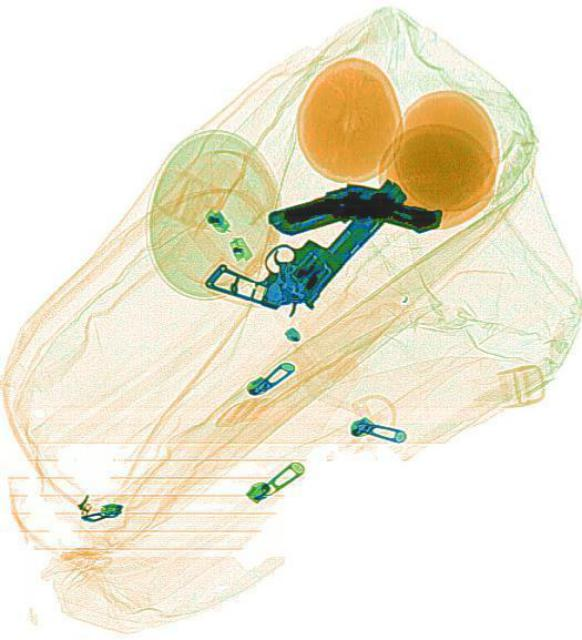Gun: (199, 130, 407, 346), (261, 156, 443, 280)
